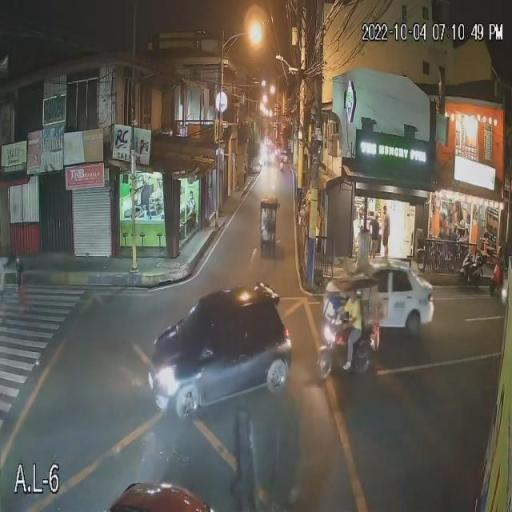motorcycle: (313, 314, 397, 382), (454, 245, 489, 290)
rider: (340, 287, 362, 375)
